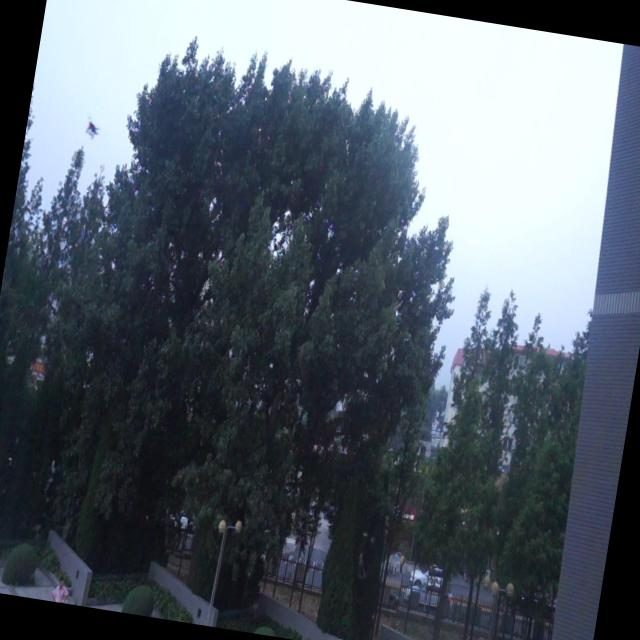drone: (80, 112, 104, 143)
